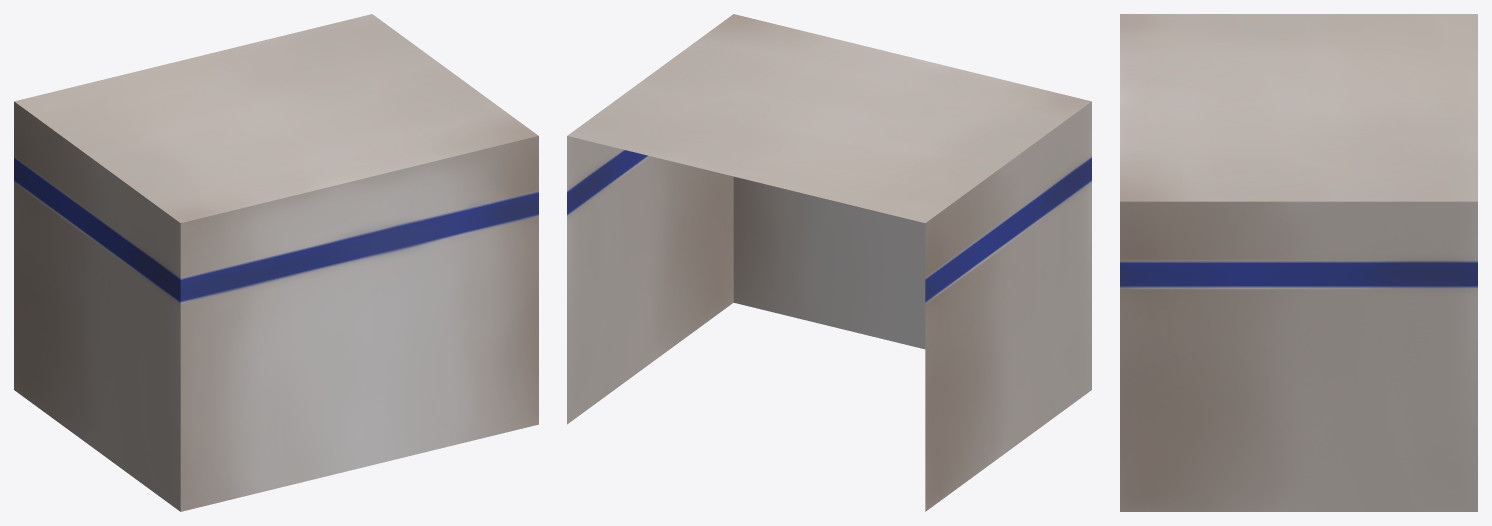
The model's file is SM_PIPETTETIB_blue.FBX.
3 renders of one model, left to right at view 1: azimuth 30°, elevation 25°; view 2: azimuth 150°, elevation 25°; view 3: azimuth 270°, elevation 25°, orthographic. The views are drawn at different scales.
Parts seen in each view (by area): view 1: PIPETTETIB_blue; view 2: PIPETTETIB_blue; view 3: PIPETTETIB_blue.
Part boxes in pixels (box(x1,y1,x2,y2)): PIPETTETIB_blue: box(14, 14, 538, 511); PIPETTETIB_blue: box(567, 14, 1091, 511); PIPETTETIB_blue: box(1120, 14, 1477, 511).
Size of the model in its own units: 57.27 by 44.12 by 46.12.
1 material, 1 textured.
